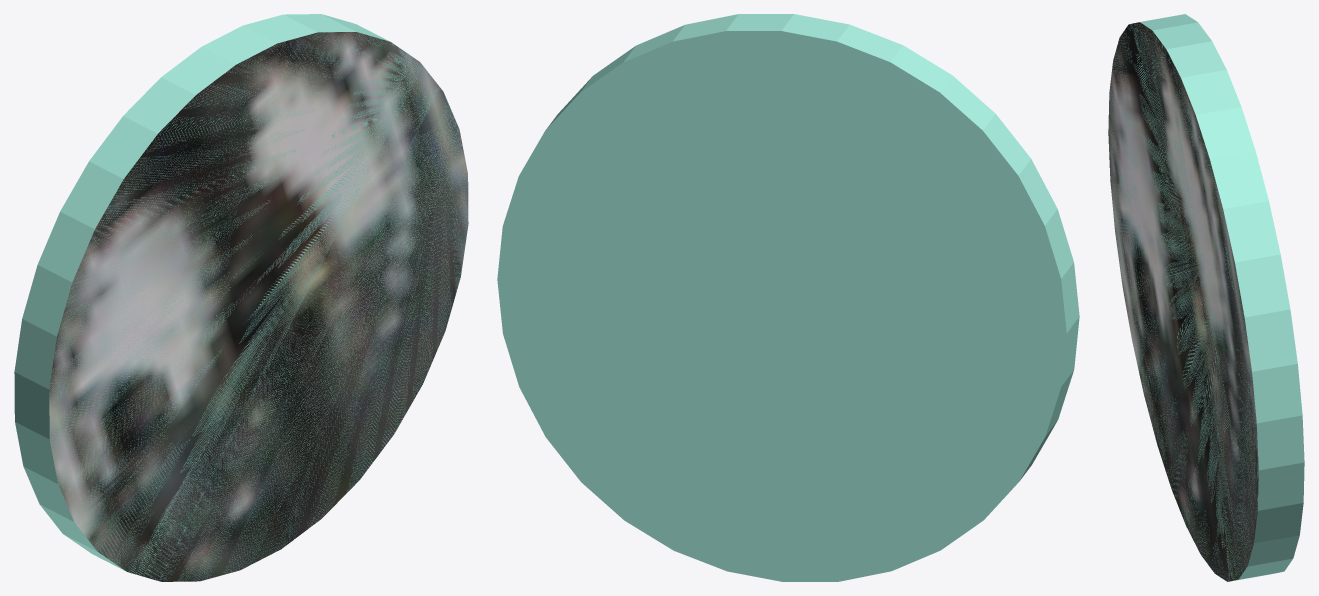
Rendered from SampleCar_01_HB_L.fbx.
3 renders of one model, left to right at view 1: azimuth 30°, elevation 25°; view 2: azimuth 150°, elevation 25°; view 3: azimuth 270°, elevation 25°, orthographic. The views are drawn at different scales.
Visible parts, largest first — view 1: lamps_005_LOD0, UTM_lamps_005; view 2: UTM_lamps_005; view 3: lamps_005_LOD0, UTM_lamps_005.
Boxes of the visible parts, x1=… form: lamps_005_LOD0: x1=49, y1=32, x2=468, y2=581; UTM_lamps_005: x1=14, y1=14, x2=468, y2=581; UTM_lamps_005: x1=497, y1=14, x2=1079, y2=581; lamps_005_LOD0: x1=1108, y1=22, x2=1258, y2=581; UTM_lamps_005: x1=1108, y1=14, x2=1304, y2=581.
Size of the model in its own units: 10.43 by 10.6 by 3.64.
